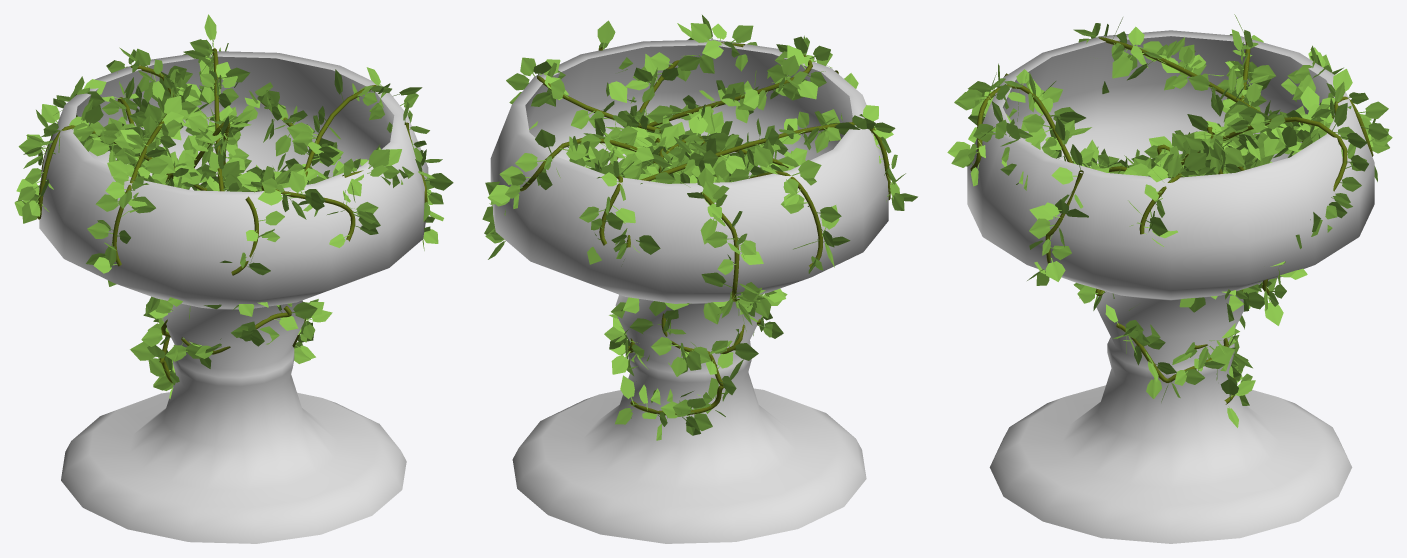
Rendered from Pot_Lierre.glb.
3 views of the same model, side by side, from view 1: azimuth 30°, elevation 25°; view 2: azimuth 150°, elevation 25°; view 3: azimuth 270°, elevation 25° (orthographic). The views are drawn at different scales.
Visible parts, largest first — view 1: Cylinder; view 2: Cylinder; view 3: Cylinder.
Part boxes in pixels (left/top/right/bottom): Cylinder: left=14, top=14, right=453, bottom=543; Cylinder: left=482, top=15, right=917, bottom=543; Cylinder: left=947, top=14, right=1392, bottom=543.
Bounding box in the file's own units: 2.54 × 2.53 × 2.59.
